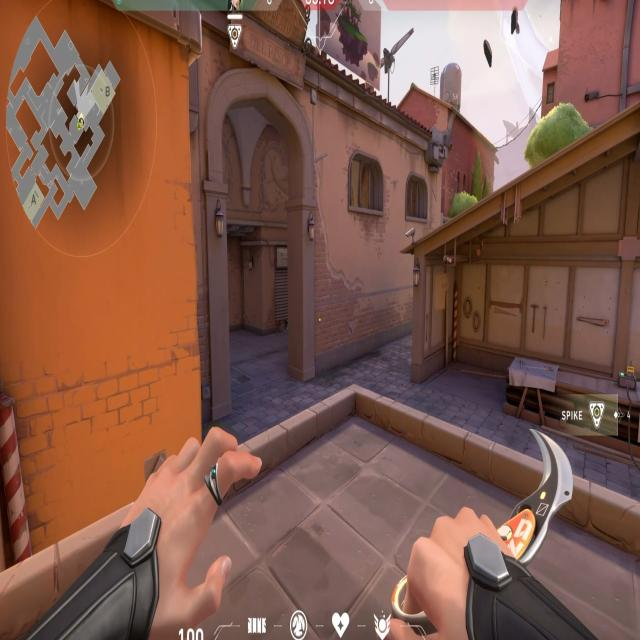B_Garage_Left: (408, 235, 528, 407)
Throwables: (345, 147, 388, 217), (404, 169, 430, 223)
